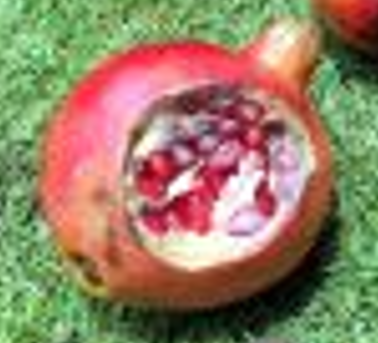pomegranate_C: (38, 13, 335, 311)
